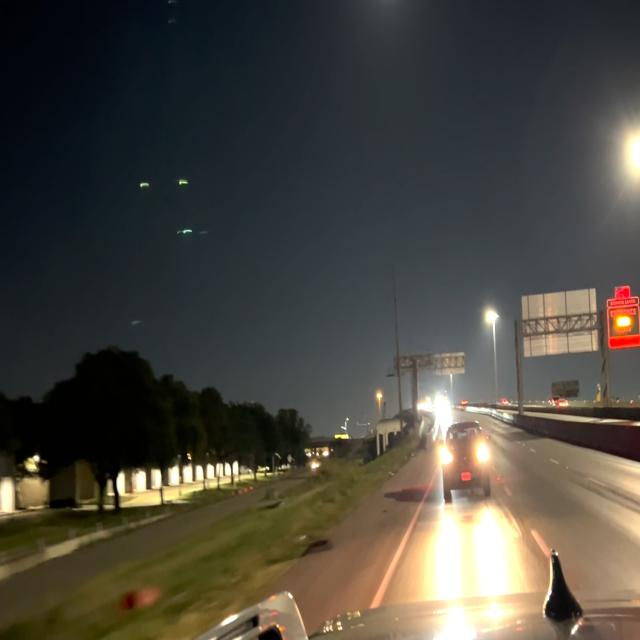back-of-sign: (520, 286, 599, 356), (429, 349, 468, 379)
